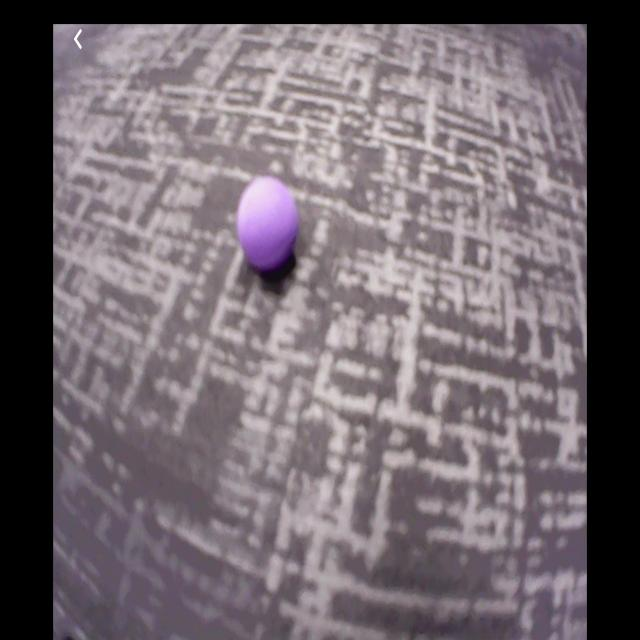ball: (240, 179, 300, 269)
